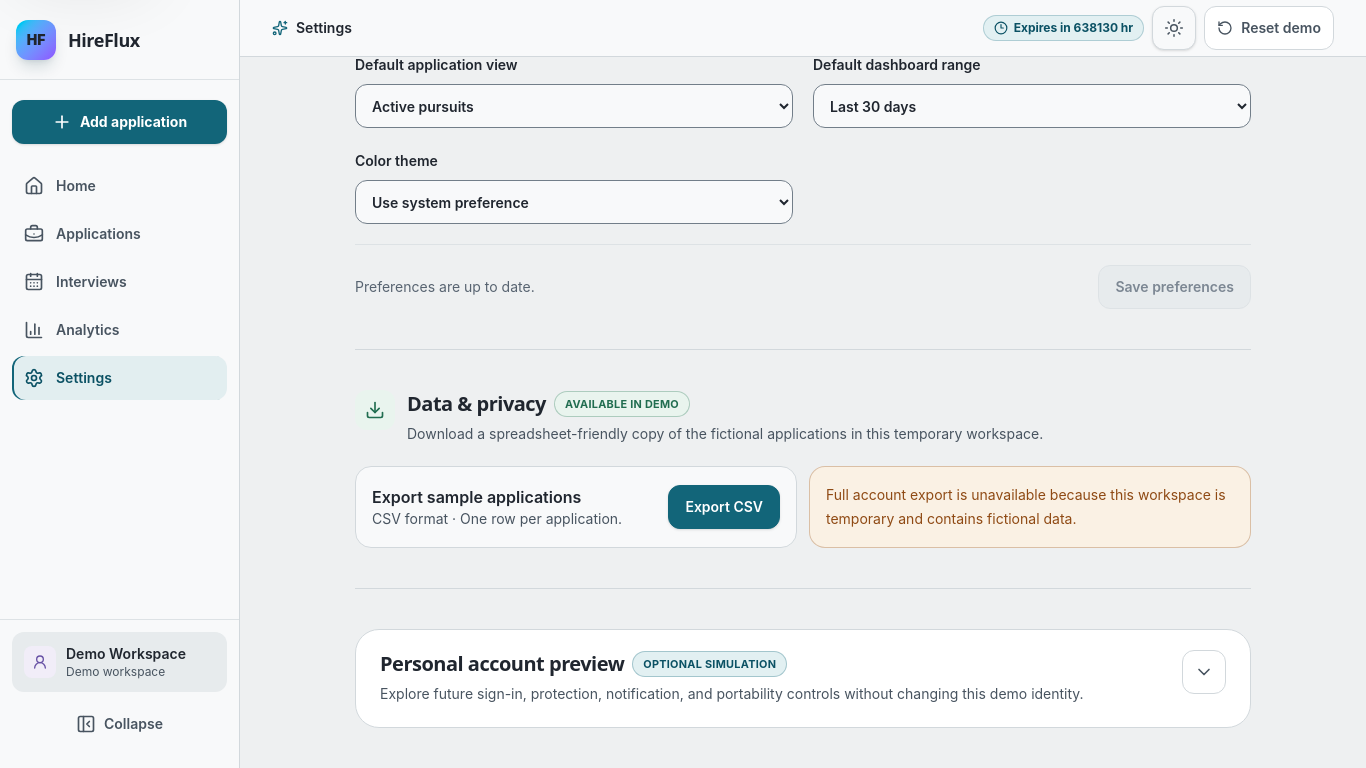
workspace milestone features › downloads sample applications as CSV and hides account portability in the demo
(page scrolled)
Expected: the heading "Data & privacy" is shown, x1=407 y1=390 x2=546 y2=418
Expected: the text "Export sample applications" is shown, x1=372 y1=487 x2=581 y2=507
Click the button "Export CSV".
click(724, 507)  # box x1=668 y1=485 x2=780 y2=529
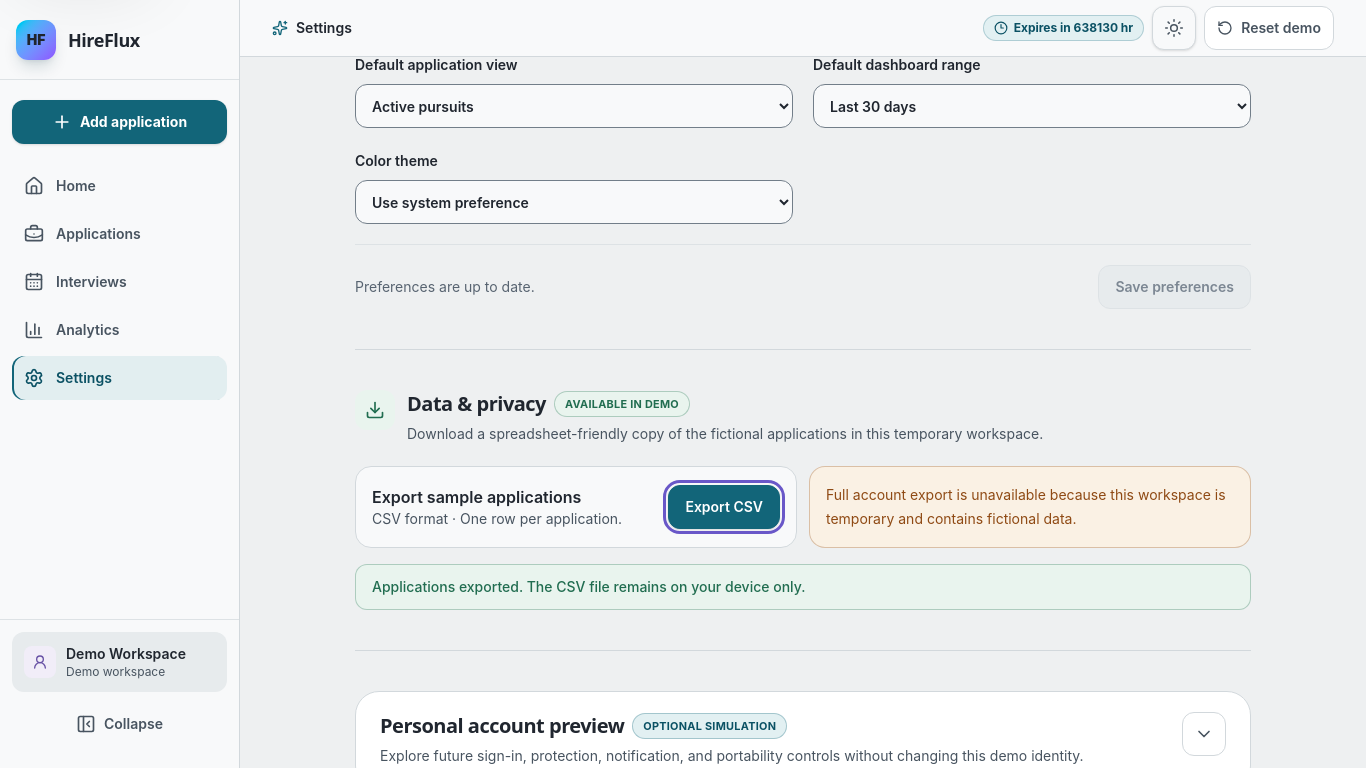
Result: the text "Applications exported. The CSV file remains on your device only." is shown at x1=355 y1=564 x2=1251 y2=610
